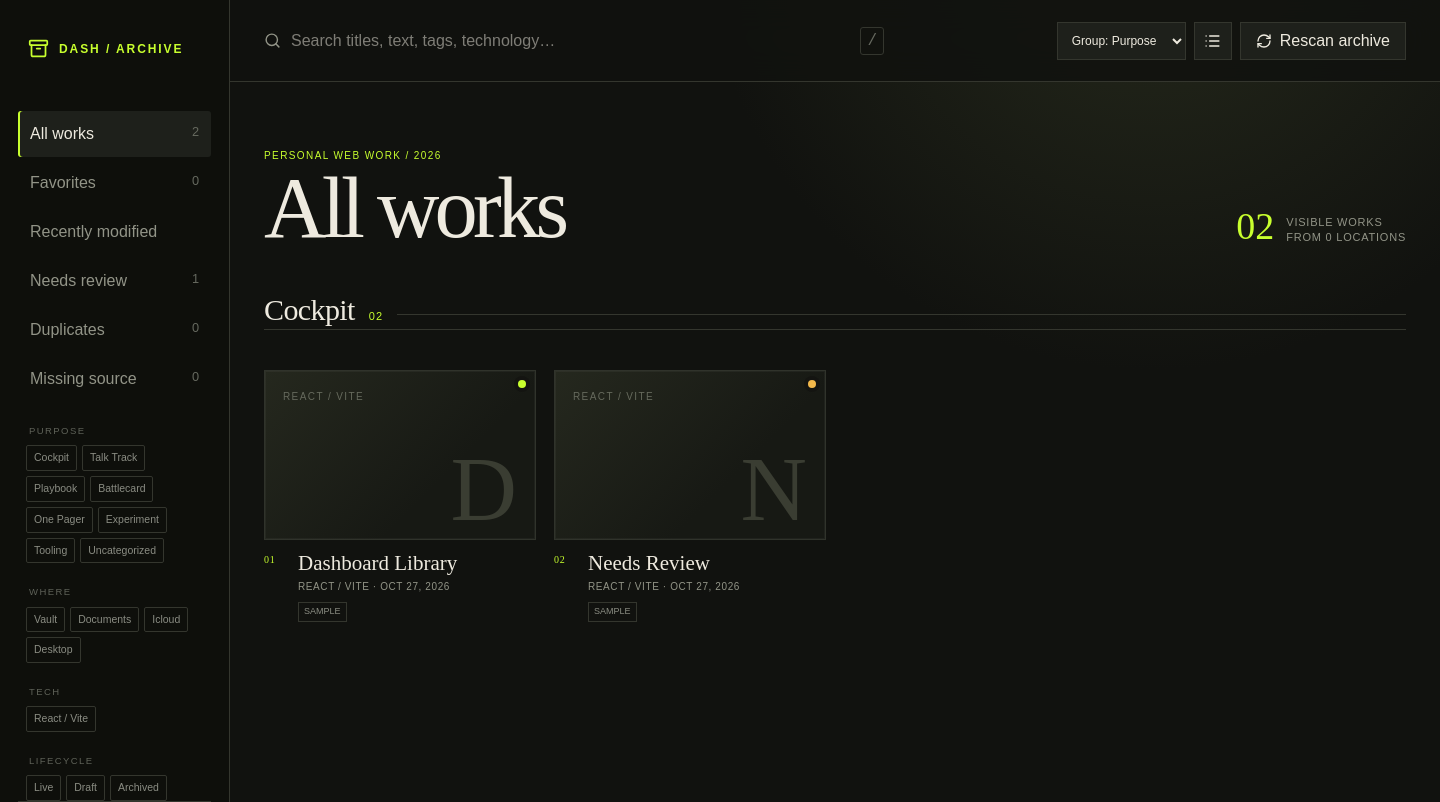
dashboard archive interface › loads the archive and filters it with search
Expected: the button "Dashboard Library" is shown, [298, 552, 457, 574]
Type "review" into the field with placeholder "Search titles, text, tags, technology…" at (571, 40), box [291, 20, 850, 62]
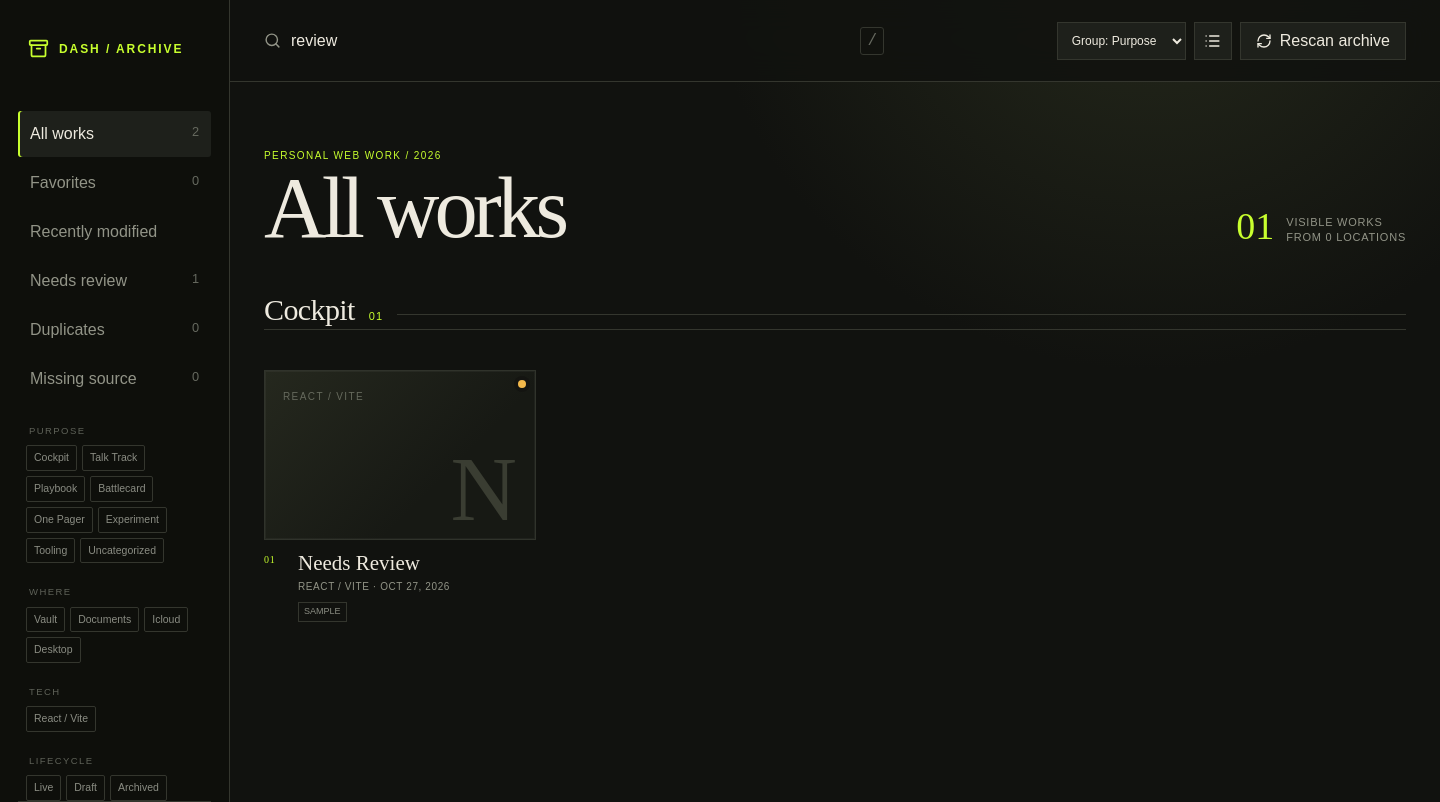
Expected: the button "Needs Review" is shown, [298, 552, 420, 574]
Expected: the button "Dashboard Library" is gone
